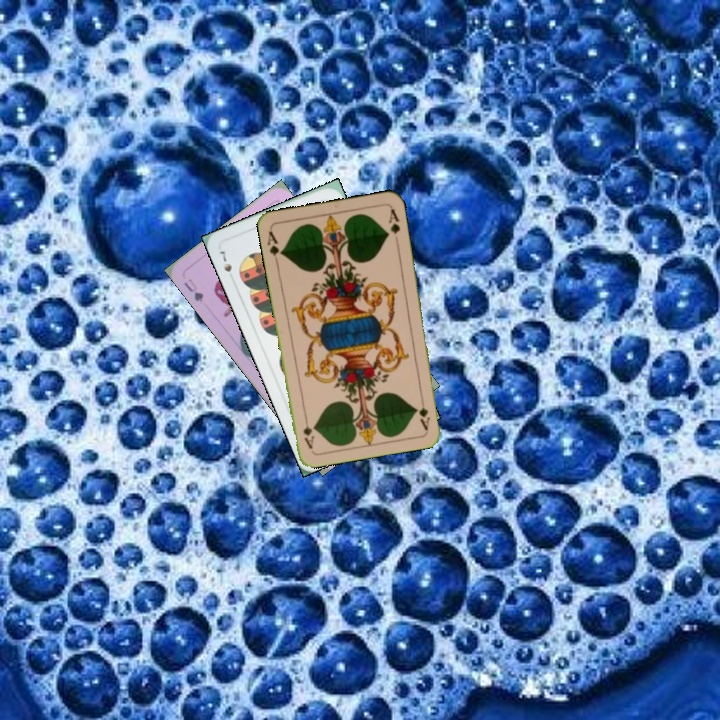GA: (263, 227, 286, 266), (415, 391, 432, 432)
GU: (180, 274, 206, 305)
S7: (215, 247, 234, 275)
